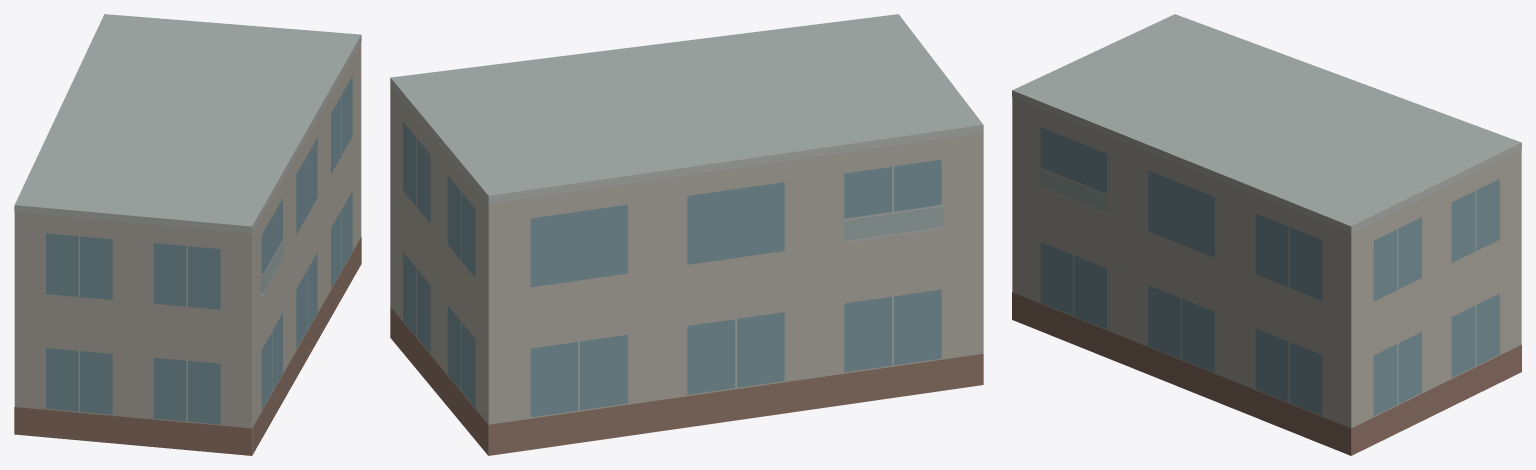
File: survey-upis-33010142.glb
3 renders of one model, left to right at view 1: azimuth 30°, elevation 25°; view 2: azimuth 150°, elevation 25°; view 3: azimuth 270°, elevation 25°, orthographic. The views are drawn at different scales.
Parts seen in each view (by area): view 1: survey-upis-33010142.tmp; view 2: survey-upis-33010142.tmp; view 3: survey-upis-33010142.tmp.
Part boxes in pixels (x1,y1,x2,y2): survey-upis-33010142.tmp: [14, 14, 361, 455]; survey-upis-33010142.tmp: [390, 14, 983, 455]; survey-upis-33010142.tmp: [1012, 14, 1521, 455].
Bounding box in the file's own units: 15.69 × 7.9 × 15.91.
